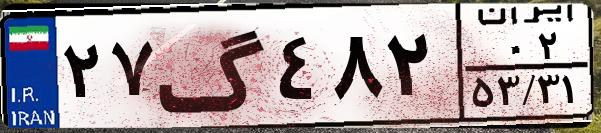0: (508, 27, 537, 80)
1: (560, 70, 590, 125)
2: (385, 28, 445, 110), (57, 26, 110, 100), (537, 27, 568, 80)
3: (495, 70, 520, 125), (535, 70, 560, 125)
4: (270, 28, 330, 110)
5: (470, 70, 495, 125)
7: (110, 28, 156, 98)
8: (330, 28, 385, 110)
گ: (156, 12, 270, 120)
